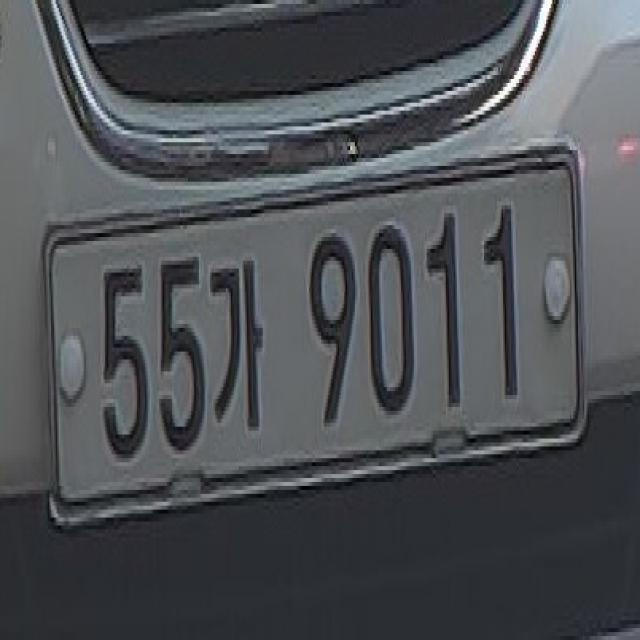0: (362, 213, 420, 419)
1: (475, 186, 526, 411), (420, 200, 470, 414)
5: (97, 251, 150, 461), (154, 245, 206, 455)
9: (303, 213, 359, 434)
ga: (210, 244, 266, 446)
license_plate: (36, 121, 597, 546)
